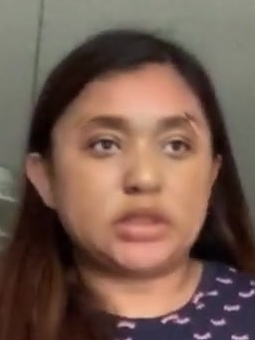eb_f: (73, 106, 205, 167)
